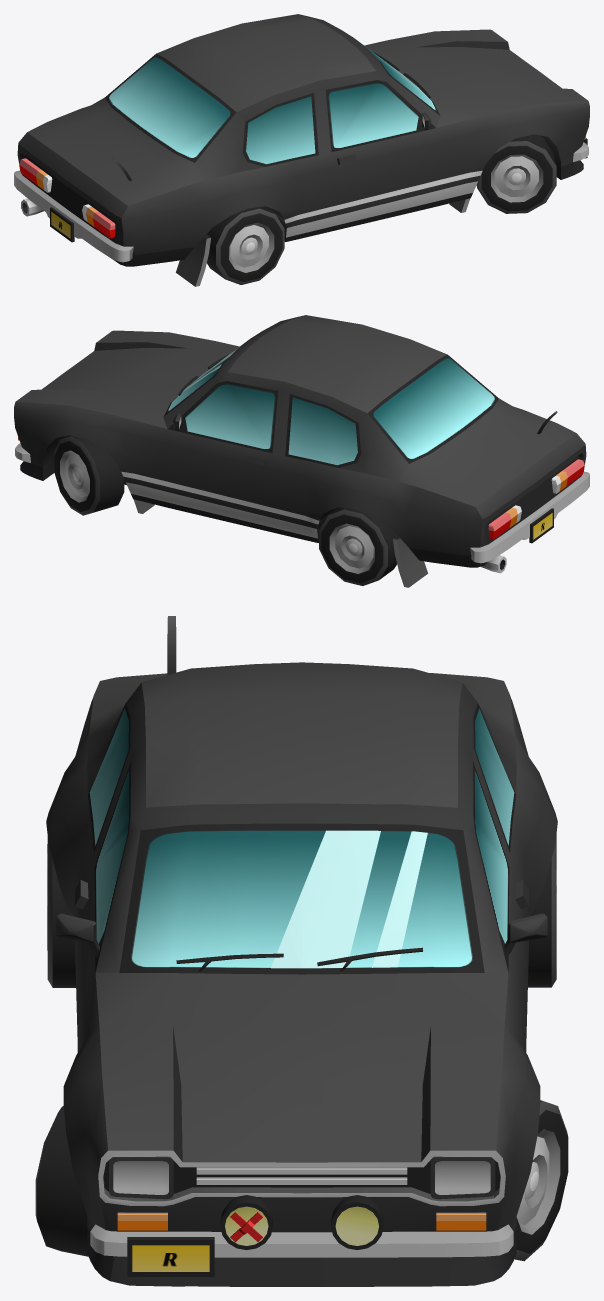
File: Car_096.glb
3 views of the same model, one above another, from view 1: azimuth 30°, elevation 25°; view 2: azimuth 150°, elevation 25°; view 3: azimuth 270°, elevation 25° (orthographic). The views are drawn at different scales.
Visible parts, largest first — view 1: Car_096, wheel_1_Car_096_Wheel_1R, wheel_3_Car_096_Wheel_2R; view 2: Car_096, wheel_2_Car_096_Wheel_2L, wheel_0_Car_096_Wheel_1L; view 3: Car_096, wheel_0_Car_096_Wheel_1L, wheel_1_Car_096_Wheel_1R, wheel_3_Car_096_Wheel_2R, wheel_2_Car_096_Wheel_2L.
Part boxes in pixels (<box>): Car_096: <box>14,14,589,286</box>; wheel_1_Car_096_Wheel_1R: <box>476,134,556,213</box>; wheel_3_Car_096_Wheel_2R: <box>206,206,284,284</box>; Car_096: <box>14,315,589,587</box>; wheel_2_Car_096_Wheel_2L: <box>319,507,397,585</box>; wheel_0_Car_096_Wheel_1L: <box>54,436,124,515</box>; Car_096: <box>46,616,557,1286</box>; wheel_0_Car_096_Wheel_1L: <box>514,1100,568,1261</box>; wheel_1_Car_096_Wheel_1R: <box>35,1105,88,1256</box>; wheel_3_Car_096_Wheel_2R: <box>47,837,75,987</box>; wheel_2_Car_096_Wheel_2L: <box>528,834,556,987</box>.
Bounding box in the file's own units: 4.76 × 1.56 × 2.24.
Materials: 1 (1 with a texture image).
